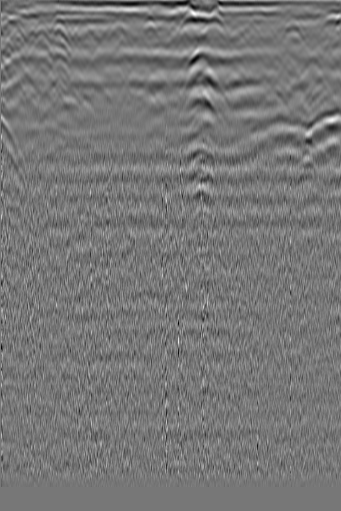상수: (295, 54, 331, 79)
오수: (0, 24, 35, 53)
우수: (133, 20, 163, 53)
